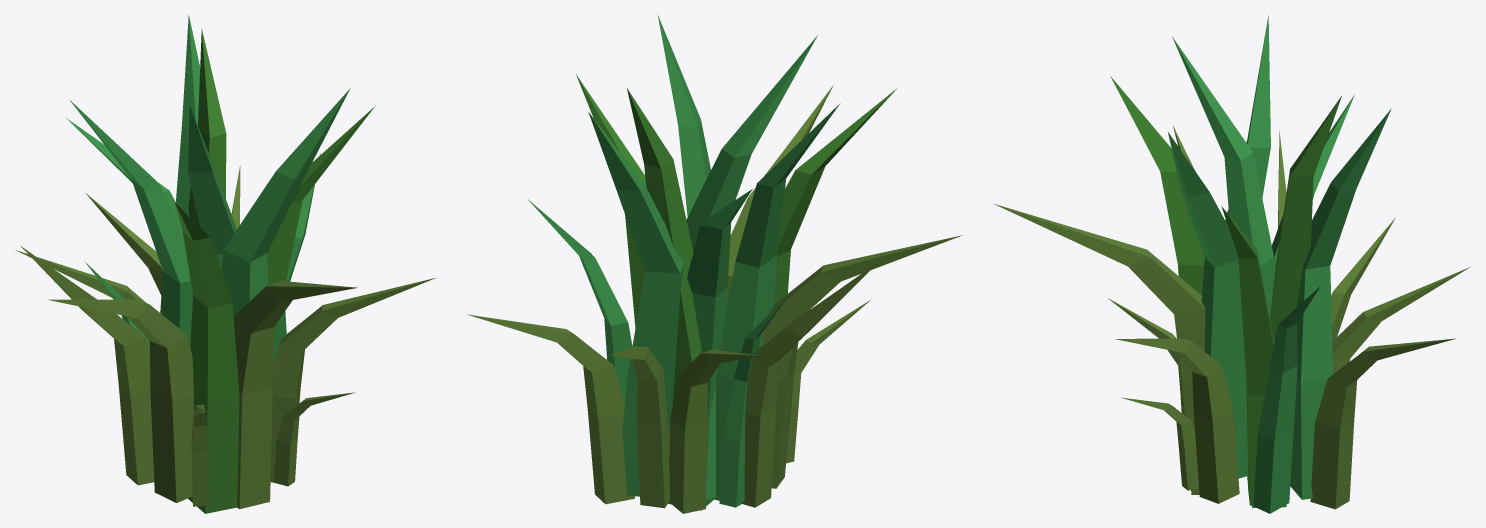
Rendered from LumpOfGrass3.fbx.
3 views of the same model, side by side, from view 1: azimuth 30°, elevation 25°; view 2: azimuth 150°, elevation 25°; view 3: azimuth 270°, elevation 25° (orthographic). The views are drawn at different scales.
Parts seen in each view (by area): view 1: LumpOfGrass3; view 2: LumpOfGrass3; view 3: LumpOfGrass3.
Boxes of the visible parts, left/top/right/bottom form: LumpOfGrass3: left=15, top=14, right=436, bottom=513; LumpOfGrass3: left=466, top=15, right=962, bottom=513; LumpOfGrass3: left=993, top=15, right=1470, bottom=513.
Bounding box in the file's own units: 143 × 165 × 169.
